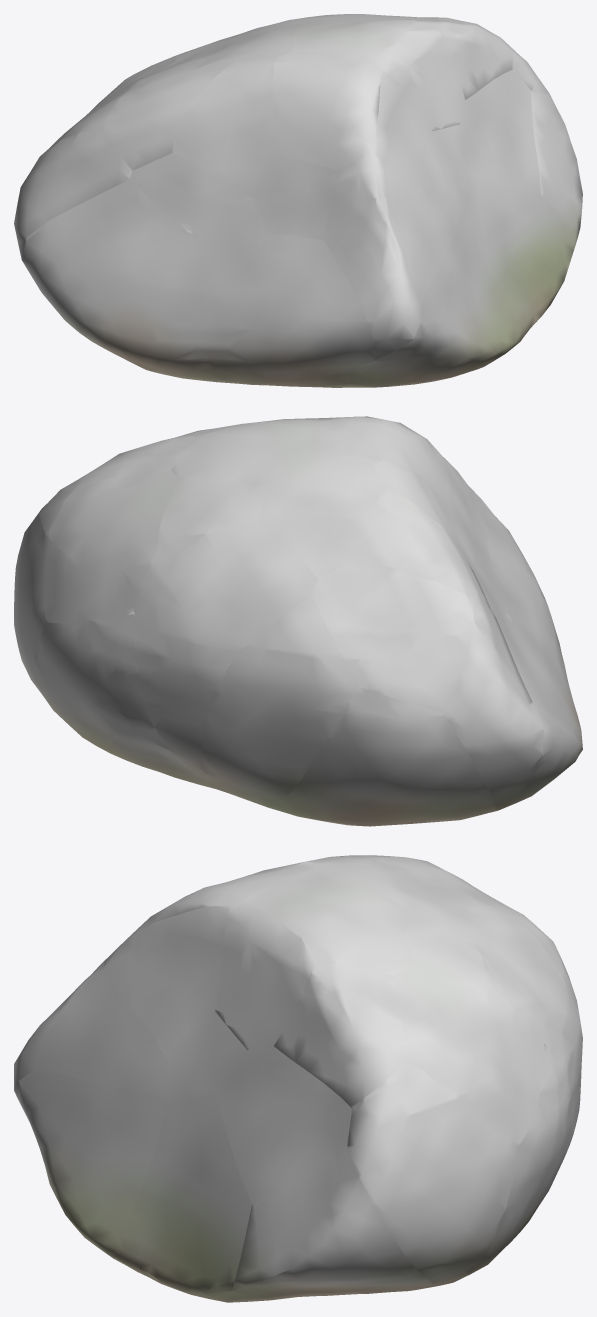
Rendered from rock_v7.glb.
The picture shows the model from 3 angles, top to bottom: view 1: azimuth 30°, elevation 25°; view 2: azimuth 150°, elevation 25°; view 3: azimuth 270°, elevation 25°; orthographic projection. The views are drawn at different scales.
Visible parts, largest first — view 1: Chunk_04, Chunk_07, Chunk_15, Chunk_02, Chunk_28, Chunk_05, Chunk_25, Chunk_13, Chunk_22, Chunk_09, Chunk_26, Chunk_20 (+11 smaller); view 2: Chunk_06, Chunk_01, Chunk_14, Chunk_19, Chunk_16, Chunk_03, Chunk_09, Chunk_27, Chunk_11, Chunk_29, Chunk_22, Chunk_04 (+10 smaller); view 3: Chunk_08, Chunk_05, Chunk_00, Chunk_02, Chunk_16, Chunk_13, Chunk_21, Chunk_23, Chunk_26, Chunk_29, Chunk_19, Chunk_03 (+10 smaller).
Boxes of the visible parts, x1,y1,x2,y2 form: Chunk_04: (22,180,236,383); Chunk_07: (207,232,376,387); Chunk_15: (323,153,424,358); Chunk_02: (343,214,523,387); Chunk_28: (273,52,380,170); Chunk_05: (464,174,574,336); Chunk_25: (173,57,275,191); Chunk_13: (459,69,540,194); Chunk_22: (103,58,234,170); Chunk_09: (14,129,132,260); Chunk_26: (371,26,465,131); Chunk_20: (250,154,339,240); Chunk_06: (201,595,359,807); Chunk_01: (269,687,497,826); Chunk_14: (312,559,473,713); Chunk_19: (133,522,318,651); Chunk_16: (45,470,177,623); Chunk_03: (36,614,224,791); Chunk_09: (443,600,542,810); Chunk_27: (259,454,383,578); Chunk_11: (134,628,238,791); Chunk_29: (171,419,355,486); Chunk_22: (352,488,490,608); Chunk_04: (496,617,582,808); Chunk_08: (347,1061,518,1286); Chunk_05: (116,1094,251,1302); Chunk_00: (227,1145,434,1302); Chunk_02: (14,1069,166,1265); Chunk_16: (392,968,546,1146); Chunk_13: (215,1046,351,1204); Chunk_21: (274,961,407,1108); Chunk_23: (127,906,229,1060); Chunk_26: (215,900,321,1049); Chunk_29: (245,871,407,975); Chunk_19: (452,905,568,1054); Chunk_03: (445,1049,574,1284).
Size of the model in its own units: 3.53 by 1.85 by 2.91.
